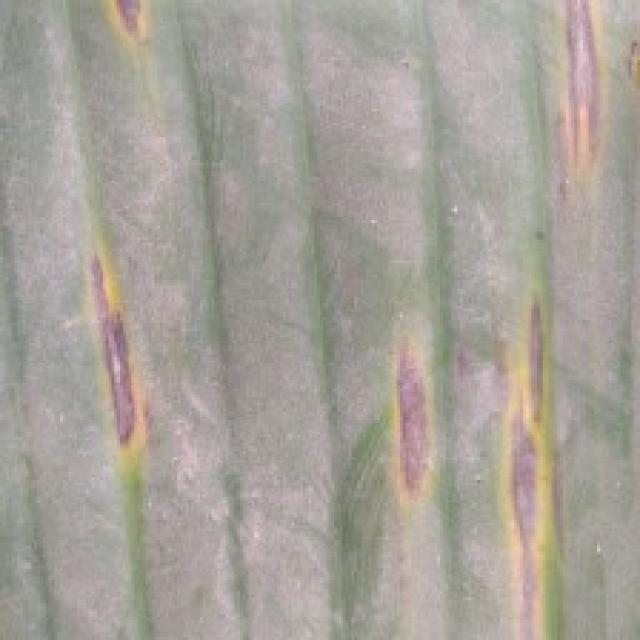Early_leaf_spot: (483, 297, 571, 640), (64, 228, 163, 470), (546, 0, 623, 202), (385, 323, 457, 516), (85, 0, 157, 51)
